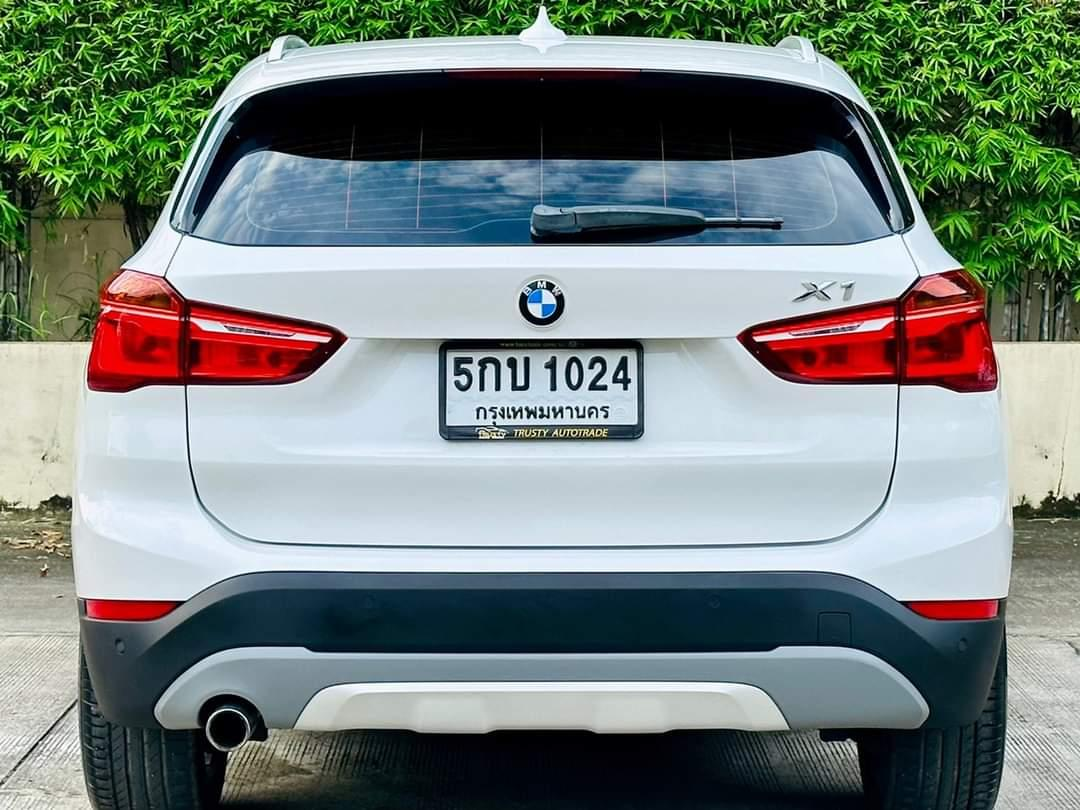license-plate: (436, 332, 647, 446)
